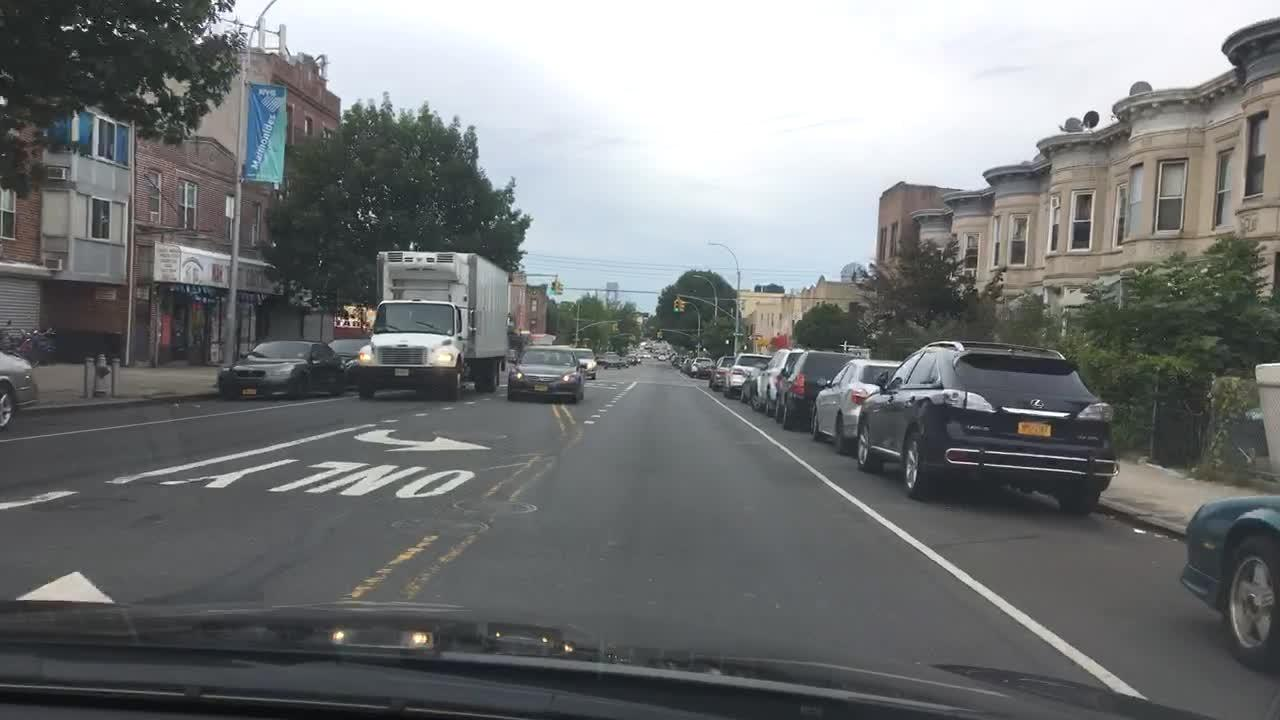lexus: (1024, 393, 1047, 412)
